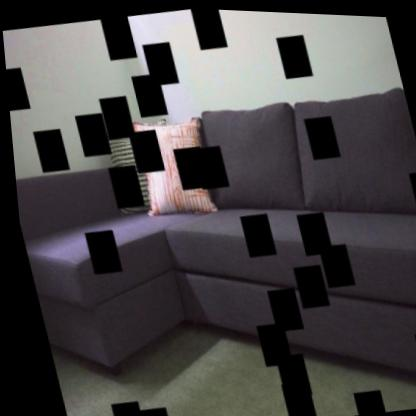Sofa: (54, 70, 416, 406)
